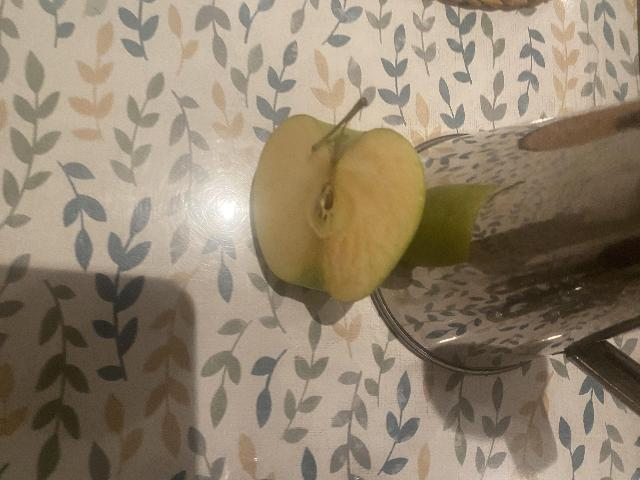Organik: (248, 89, 424, 302)
